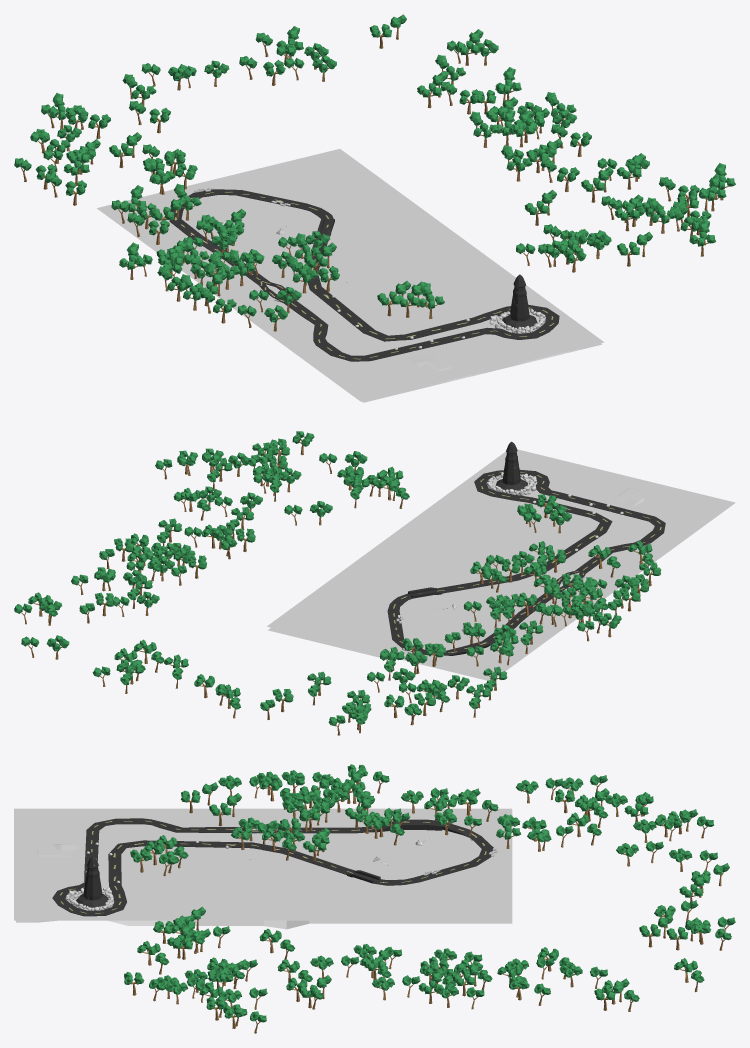
Rendered from Agua.fbx.
3 views of the same model, one above another, from view 1: azimuth 30°, elevation 25°; view 2: azimuth 150°, elevation 25°; view 3: azimuth 270°, elevation 25° (orthographic). The views are drawn at different scales.
Visible parts, largest first — view 1: Agua, Cartoon low poly trees.100, Plane.001, Pista, Plane, Faro; view 2: Plane.001, Cartoon low poly trees.100, Agua, Pista, Plane, Faro; view 3: Plane.001, Cartoon low poly trees.100, Agua, Pista, Plane, Faro.
Part boxes in pixels (left/top/right/bottom): Agua: left=106, top=149, right=602, bottom=400; Cartoon low poly trees.100: left=14, top=14, right=735, bottom=331; Plane.001: left=97, top=149, right=604, bottom=401; Pista: left=169, top=189, right=559, bottom=361; Plane: left=362, top=343, right=602, bottom=402; Faro: left=502, top=274, right=537, bottom=328; Plane.001: left=267, top=449, right=735, bottom=680; Cartoon low poly trees.100: left=14, top=431, right=661, bottom=735; Agua: left=268, top=450, right=732, bottom=674; Pista: left=387, top=469, right=665, bottom=655; Plane: left=268, top=488, right=644, bottom=680; Faro: left=495, top=441, right=527, bottom=490; Plane.001: left=14, top=808, right=511, bottom=920; Cartoon low poly trees.100: left=124, top=764, right=735, bottom=1033; Agua: left=15, top=809, right=512, bottom=919; Pista: left=52, top=818, right=493, bottom=916; Plane: left=16, top=844, right=512, bottom=929; Faro: left=76, top=856, right=108, bottom=907.
Size of the model in its own units: 41898 by 4227 by 50301.
